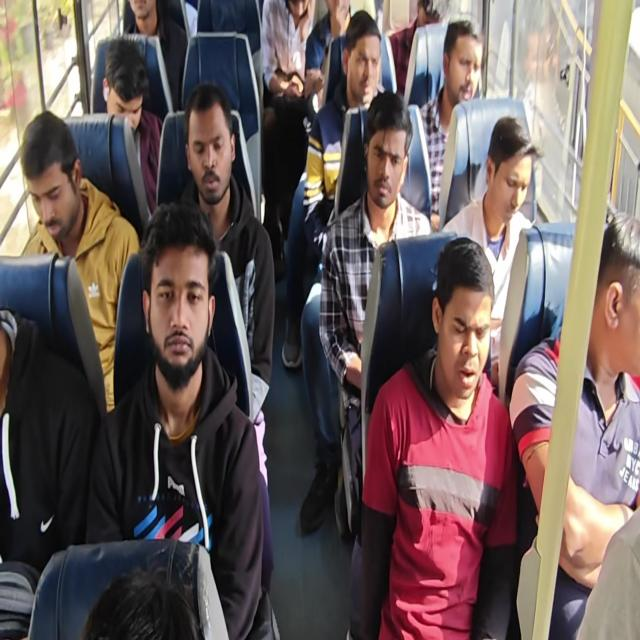person: (132, 196, 226, 394), (416, 231, 490, 405), (8, 106, 97, 246), (68, 554, 206, 640), (577, 218, 640, 396), (178, 75, 248, 218), (90, 38, 152, 142), (482, 109, 528, 249), (361, 84, 411, 211), (438, 12, 498, 104), (340, 5, 383, 112)
